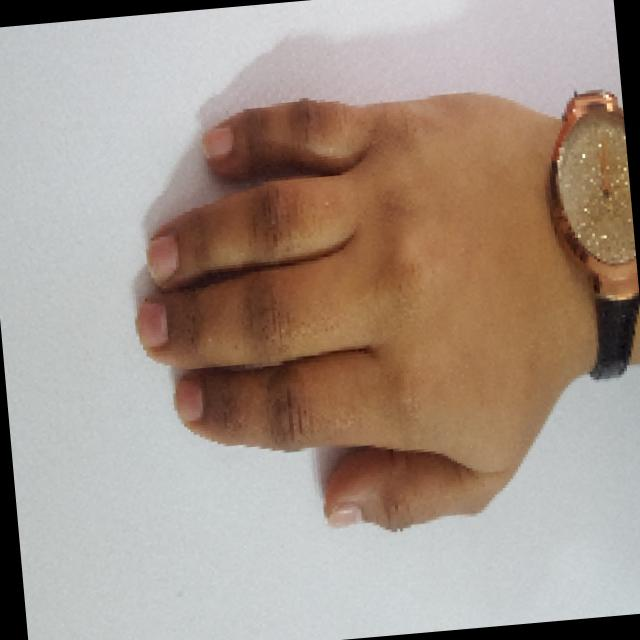Nail: (146, 233, 178, 285), (136, 302, 167, 349), (174, 377, 203, 423), (203, 123, 233, 160), (326, 502, 361, 527)
